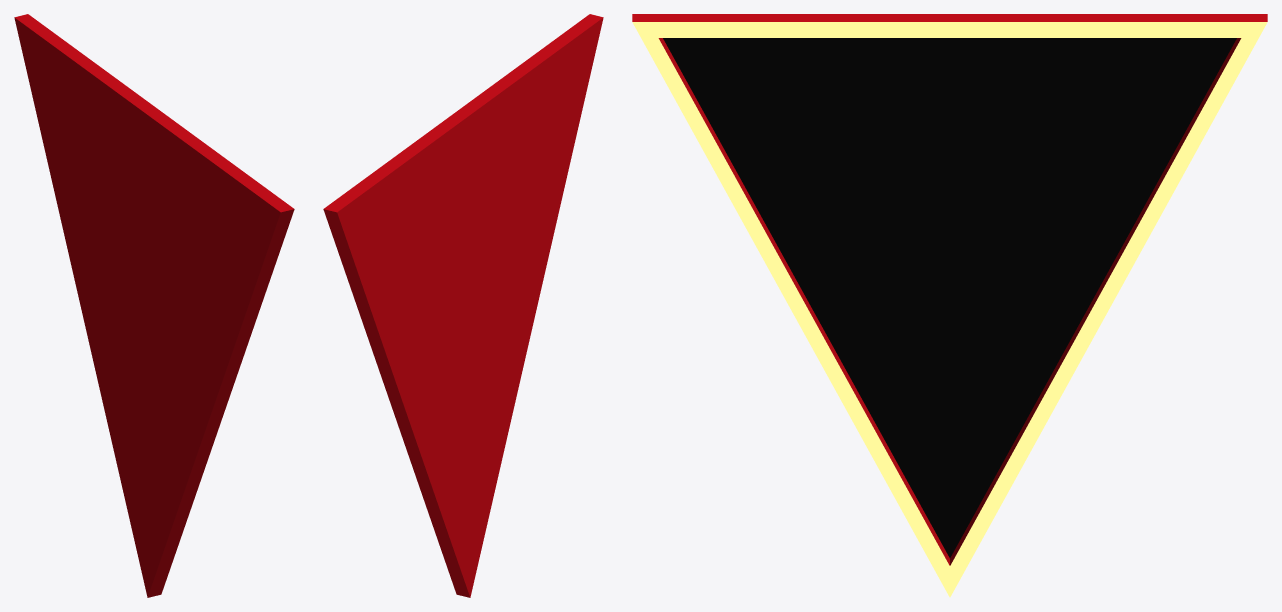
File: neat.glb
3 views of the same model, side by side, from view 1: azimuth 30°, elevation 25°; view 2: azimuth 150°, elevation 25°; view 3: azimuth 270°, elevation 25° (orthographic). The views are drawn at different scales.
Parts seen in each view (by area): view 1: Plane; view 2: Plane; view 3: Plane.
Boxes of the visible parts, x1,y1,x2,y2 form: Plane: (14, 14, 294, 597); Plane: (323, 14, 603, 597); Plane: (632, 14, 1267, 597).
Size of what is drawn, in the model's own units: 0.0332 by 1.11 by 1.11.
